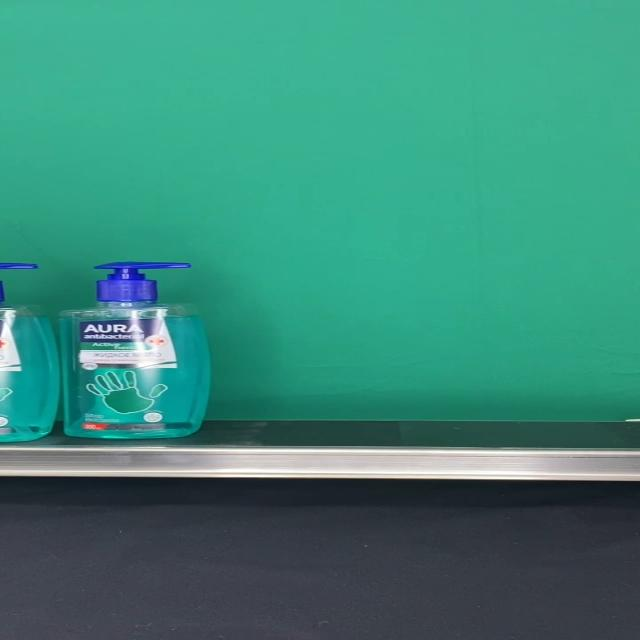Bottle: (59, 262, 210, 438)
Cap: (94, 262, 192, 302)
